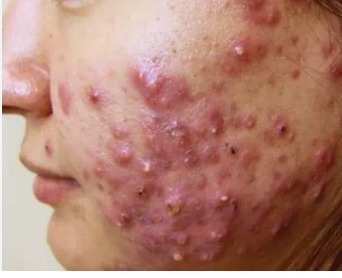Acne: (209, 186, 236, 215), (229, 37, 251, 63), (208, 223, 229, 249), (113, 204, 131, 228), (117, 142, 135, 165), (169, 245, 188, 266), (138, 160, 158, 178), (86, 85, 102, 107), (205, 121, 224, 138)
